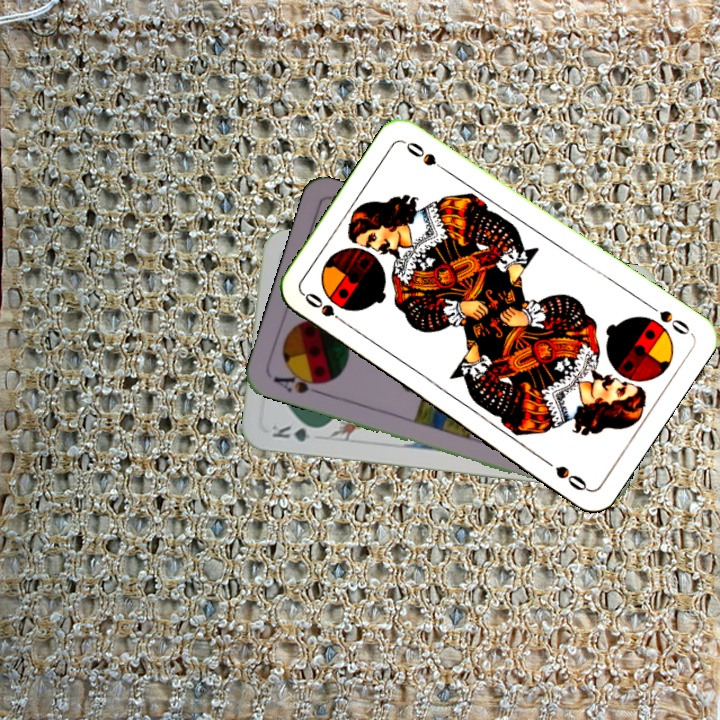GK: (268, 420, 325, 445)
SA: (269, 367, 329, 398)
SO: (299, 288, 351, 329), (642, 299, 694, 338)
